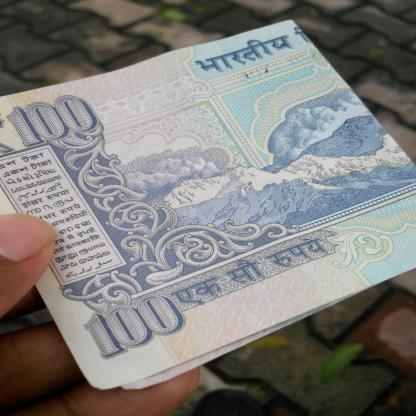Old100Back: (0, 17, 416, 394)
